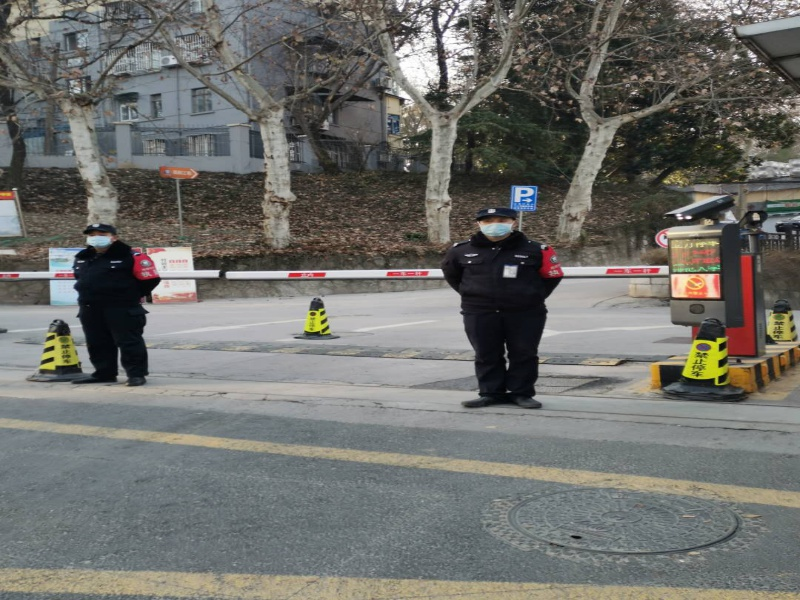ManaoArotava: (471, 201, 527, 249), (78, 215, 122, 258)
